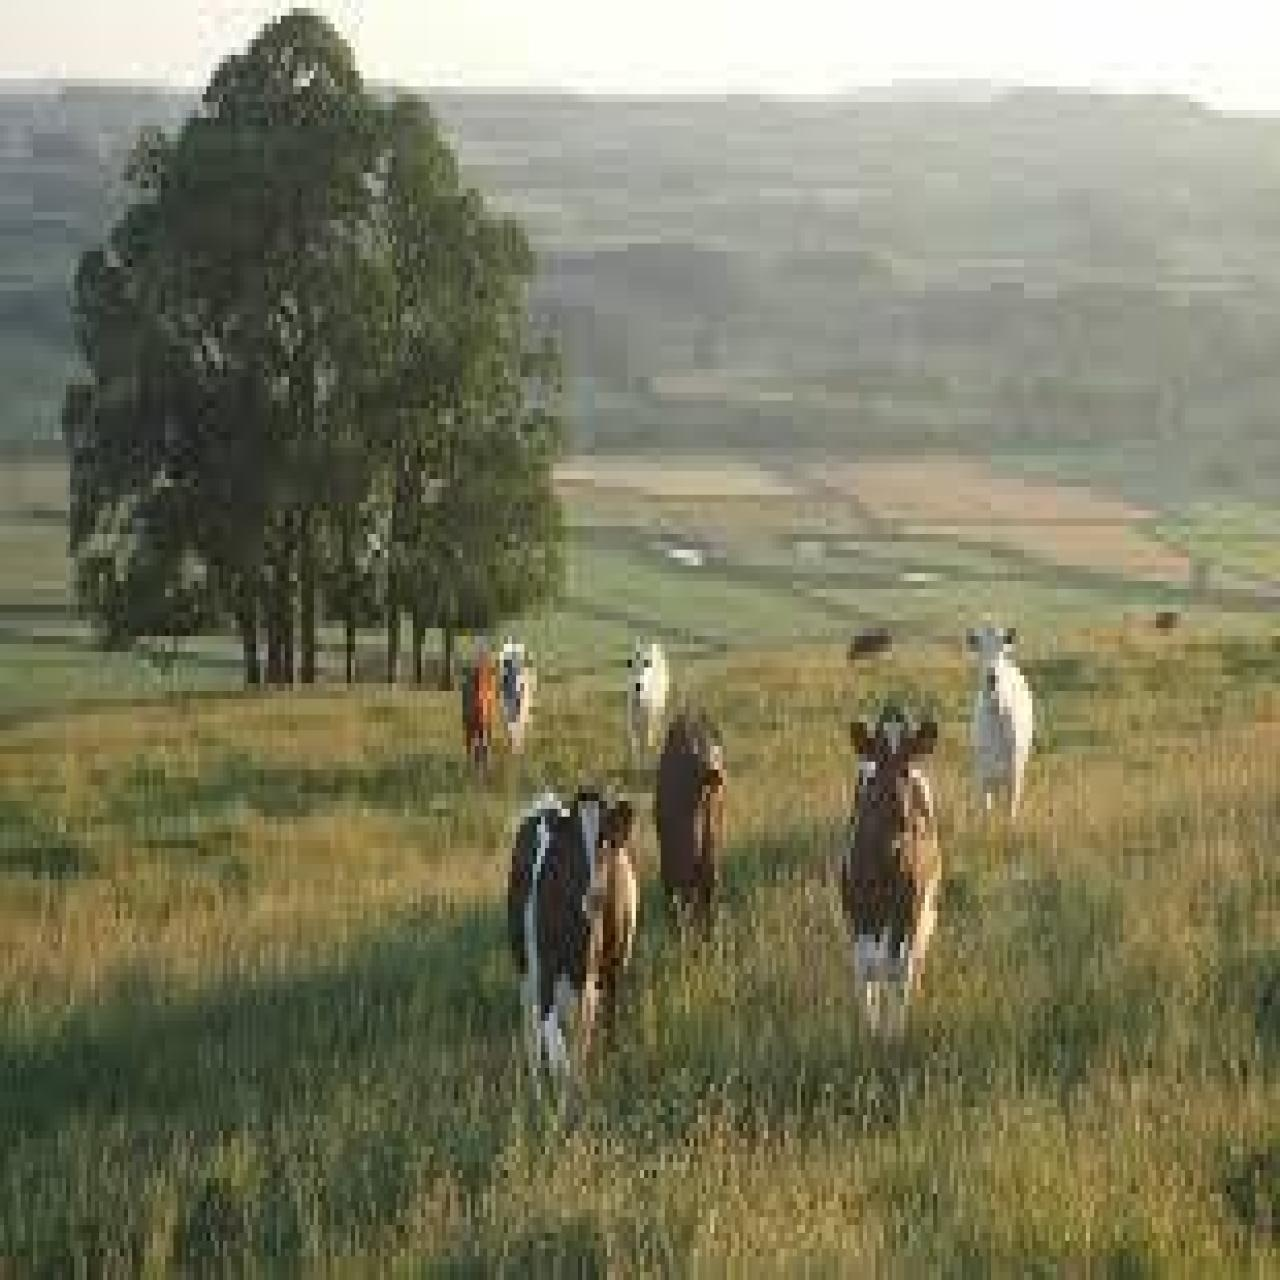cow: (506, 785, 638, 1099), (838, 695, 941, 1048), (652, 703, 727, 938), (966, 613, 1032, 824), (624, 632, 669, 774), (496, 628, 537, 754), (461, 652, 493, 762)
